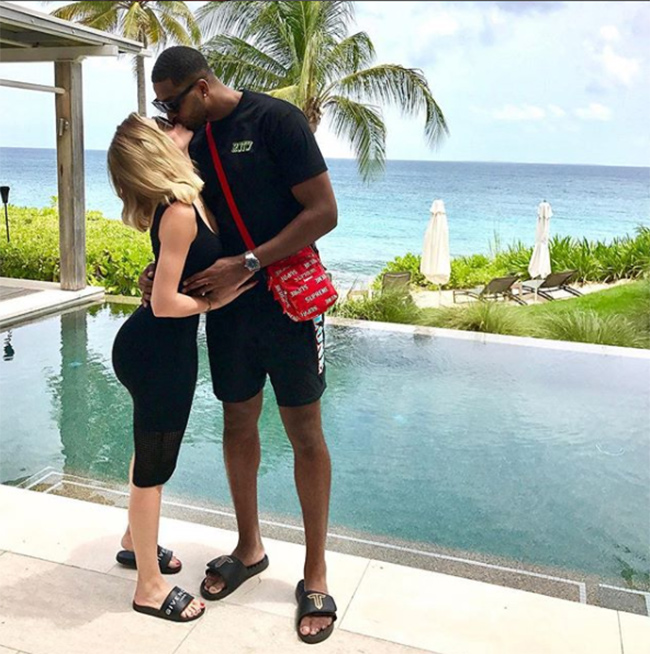Person: (189, 47, 360, 634), (111, 107, 198, 611)
